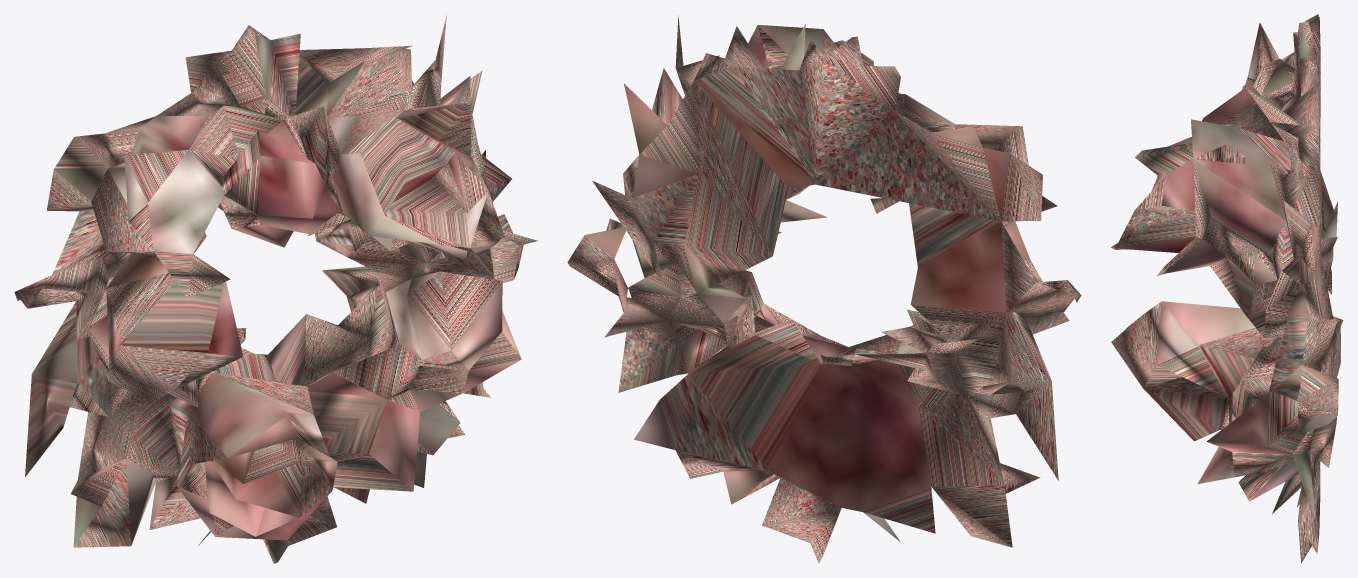
The picture shows the model from 3 angles, left to right: view 1: azimuth 30°, elevation 25°; view 2: azimuth 150°, elevation 25°; view 3: azimuth 270°, elevation 25°; orthographic projection. The views are drawn at different scales.
Parts seen in each view (by area): view 1: Rose-Frame-10-18; view 2: Rose-Frame-10-18; view 3: Rose-Frame-10-18.
Part boxes in pixels (x1,y1,x2,y2): Rose-Frame-10-18: [14, 14, 537, 563]; Rose-Frame-10-18: [567, 15, 1081, 563]; Rose-Frame-10-18: [1111, 14, 1343, 563].
Size of the model in its own units: 0.2938 by 0.2994 by 0.1242.
Materials: 1 (1 with a texture image).
